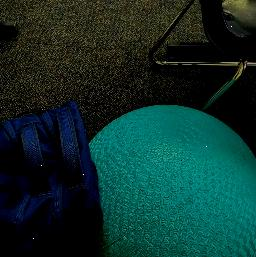algae: (83, 102, 256, 257)
